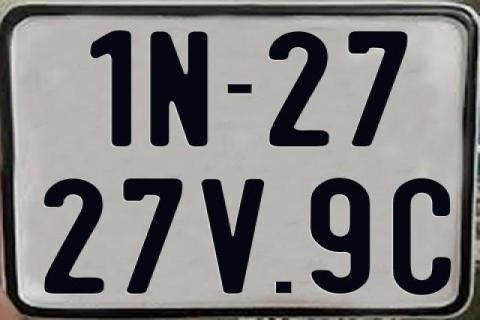0: (310, 175, 376, 293), (345, 29, 407, 145), (43, 176, 104, 293), (269, 31, 331, 146), (122, 176, 182, 292), (89, 30, 136, 146)
C: (391, 178, 452, 300)
N: (149, 29, 208, 149)
V: (200, 179, 270, 295)
